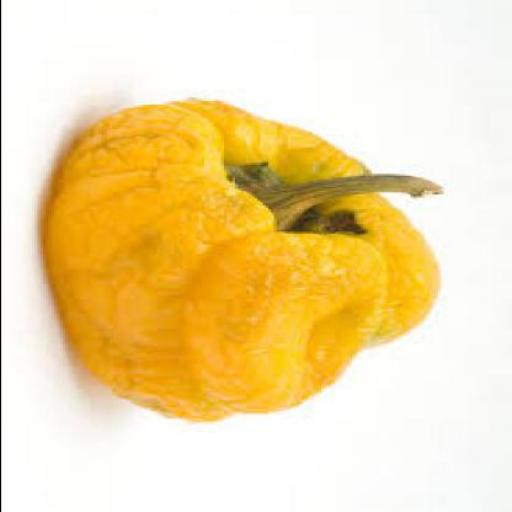biodegradable: (42, 98, 448, 420)
